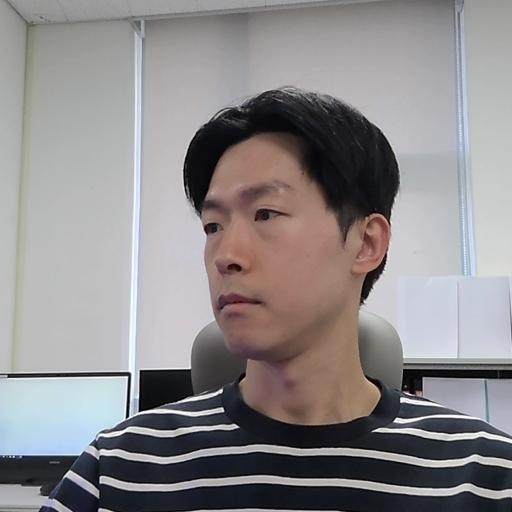no_glasses: (179, 83, 402, 359)
